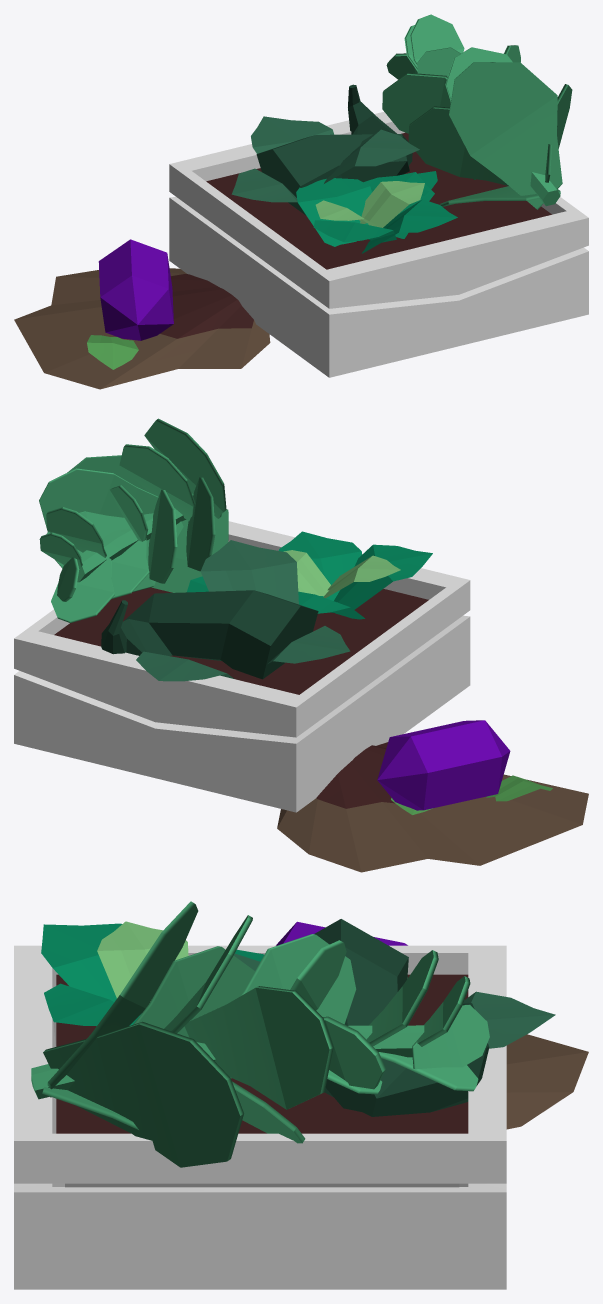
File: Destroyed_plant_farm_009.fbx
3 views of the same model, one above another, from view 1: azimuth 30°, elevation 25°; view 2: azimuth 150°, elevation 25°; view 3: azimuth 270°, elevation 25° (orthographic). The views are drawn at different scales.
Visible parts, largest first — view 1: polySurface2121, polySurface2419, polySurface2120, polySurface2864, polySurface2122, polySurface2409, polySurface2380, polySurface2379, polySurface2383, polySurface2381, polySurface2382; view 2: polySurface2121, polySurface2419, polySurface2120, polySurface2864, polySurface2379, polySurface2380, polySurface2122, polySurface2409, polySurface2383, polySurface2382, polySurface2381; view 3: polySurface2419, polySurface2121, polySurface2120, polySurface2379, polySurface2409, polySurface2122, polySurface2864, polySurface2381, polySurface2123, polySurface2380.
Part boxes in pixels (box(x1,y1,x2,y2)): polySurface2121: box(169, 197, 588, 377); polySurface2419: box(382, 14, 572, 209); polySurface2120: box(169, 112, 588, 308); polySurface2864: box(14, 268, 270, 389); polySurface2122: box(206, 132, 551, 269); polySurface2409: box(296, 172, 457, 253); polySurface2380: box(98, 239, 173, 340); polySurface2379: box(256, 84, 412, 215); polySurface2383: box(324, 129, 419, 183); polySurface2381: box(251, 116, 333, 153); polySurface2382: box(231, 168, 297, 202); polySurface2121: box(14, 615, 470, 812); polySurface2419: box(39, 418, 228, 622); polySurface2120: box(14, 521, 470, 737); polySurface2864: box(277, 742, 588, 872); polySurface2379: box(101, 590, 318, 679); polySurface2380: box(377, 720, 510, 810); polySurface2122: box(54, 587, 428, 694); polySurface2409: box(278, 531, 432, 619); polySurface2383: box(200, 540, 298, 604); polySurface2382: box(268, 626, 350, 663); polySurface2381: box(136, 651, 233, 681); polySurface2419: box(31, 901, 489, 1167); polySurface2121: box(14, 1019, 506, 1289); polySurface2120: box(14, 945, 506, 1183); polySurface2379: box(314, 919, 489, 1116); polySurface2409: box(41, 921, 263, 1026); polySurface2122: box(56, 974, 468, 1133); polySurface2864: box(506, 1034, 588, 1129); polySurface2381: box(463, 991, 555, 1048); polySurface2123: box(65, 1183, 459, 1187); polySurface2380: box(276, 921, 407, 945).
Bounding box in the file's own units: 3.01 × 1.35 × 1.91.
